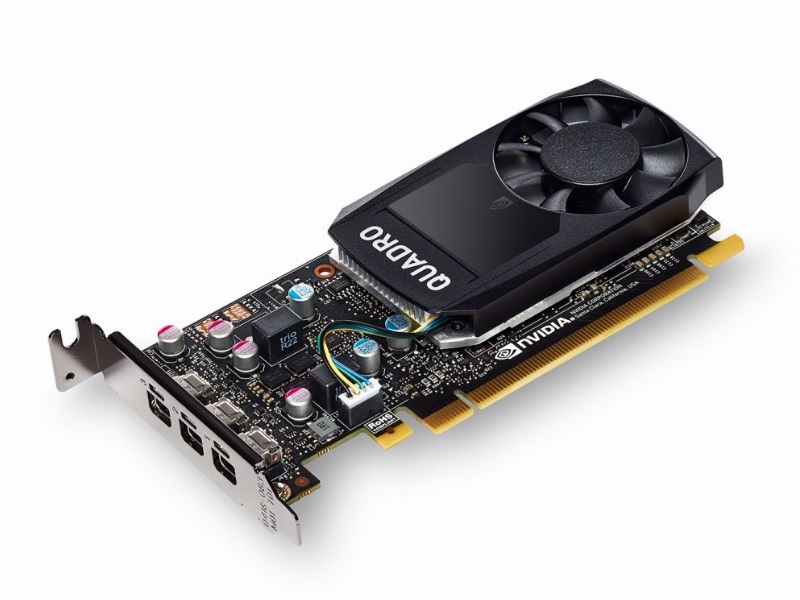PCIE Graphics Card: (21, 66, 779, 554)
